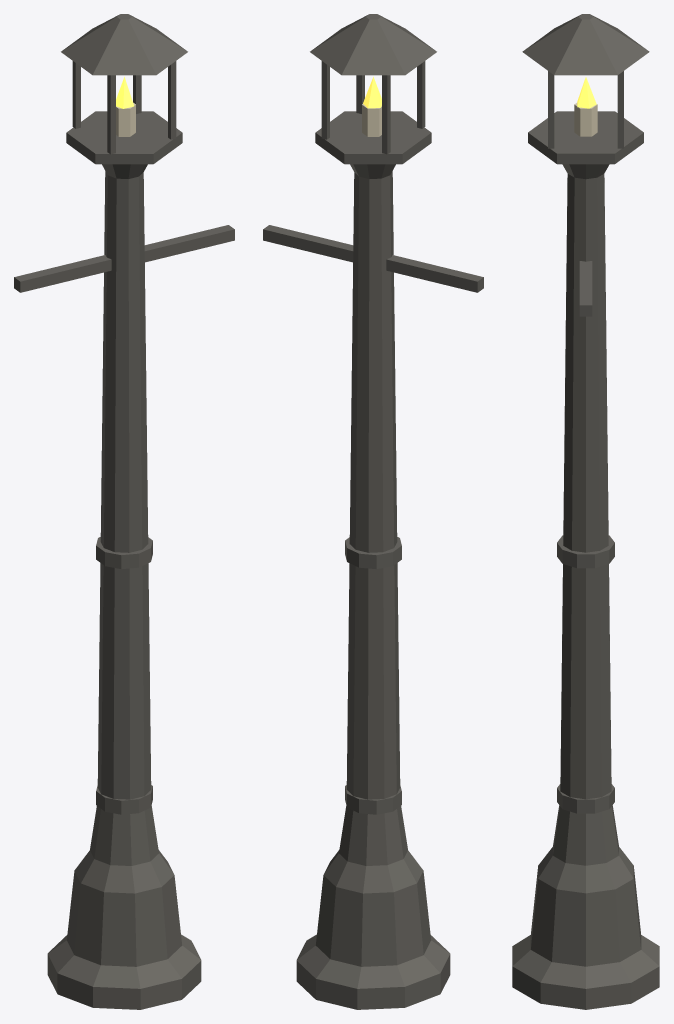
Rendered from street_lamp.glb.
3 renders of one model, left to right at view 1: azimuth 30°, elevation 25°; view 2: azimuth 150°, elevation 25°; view 3: azimuth 270°, elevation 25°, orthographic.
Parts seen in each view (by area): view 1: Street_Lamp; view 2: Street_Lamp; view 3: Street_Lamp.
Boxes of the visible parts, <box> form: Street_Lamp: <box>14,14,234,1009</box>; Street_Lamp: <box>263,14,483,1009</box>; Street_Lamp: <box>512,14,659,1009</box>.
Size of the model in its own units: 0.64 by 2.74 by 0.3804.
